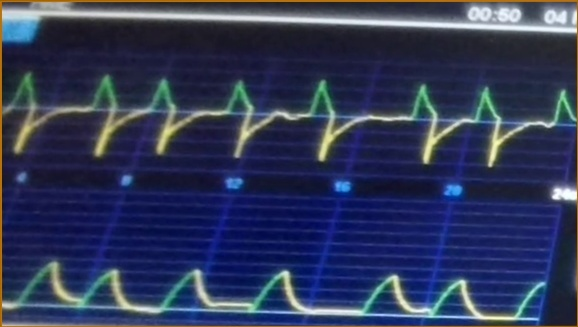Ineffective_effort Flow: (5, 66, 575, 169)
Ineffective_effort Volume: (3, 243, 546, 322)
